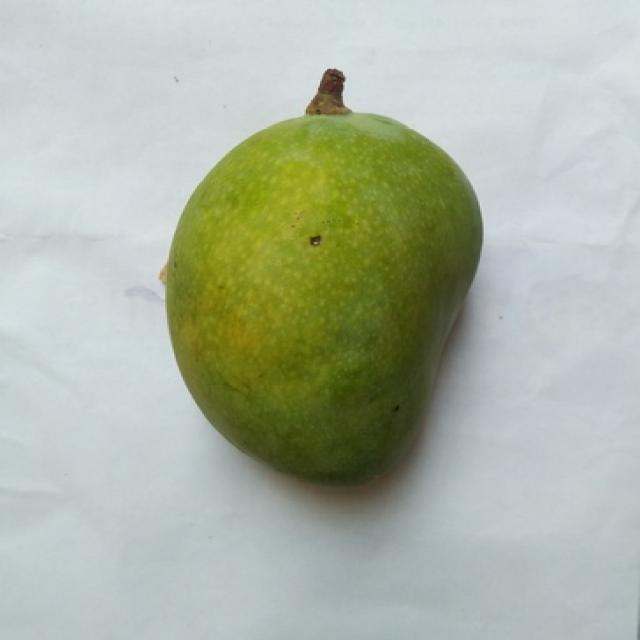Mango: (164, 70, 482, 484)
